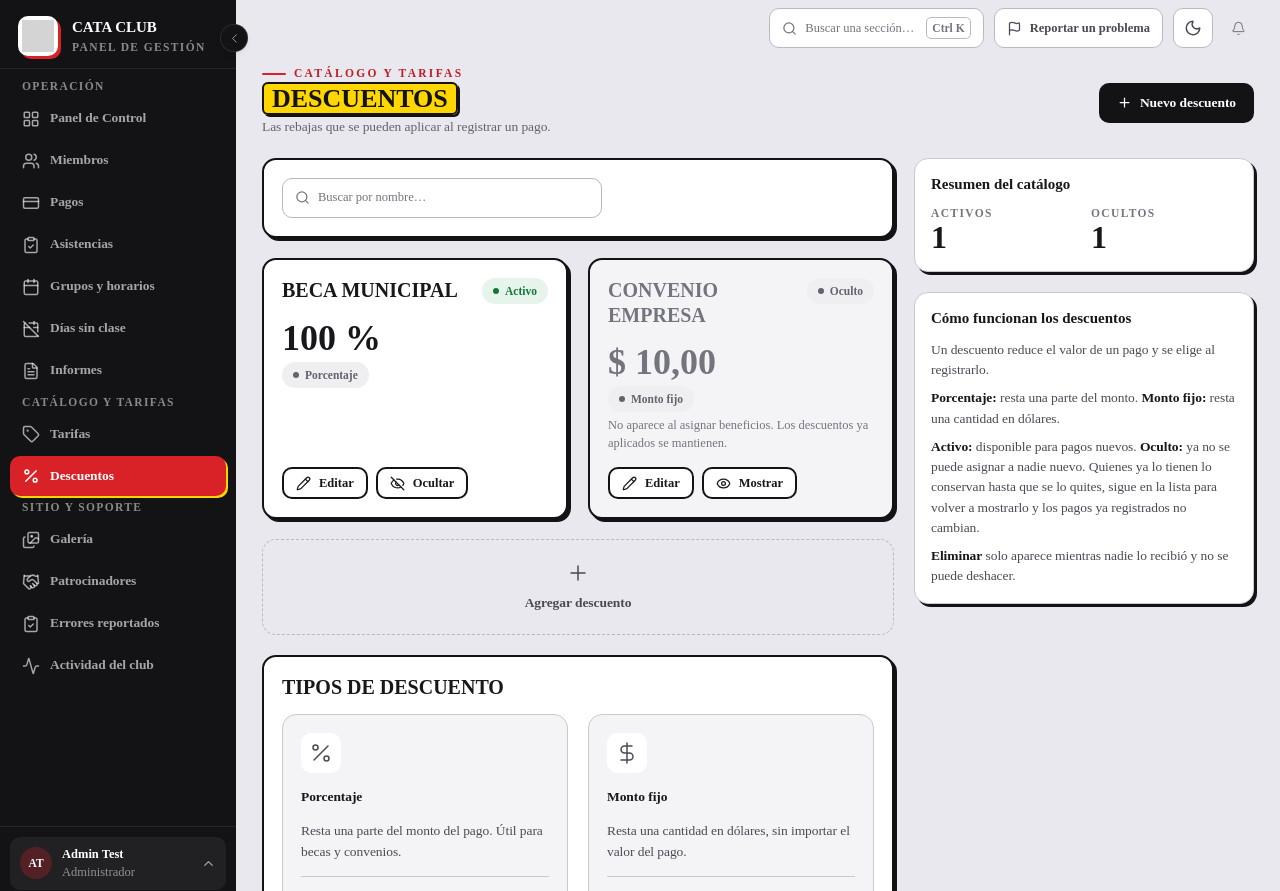
Test: DiscountsPage — búsqueda › clears the search from the no-results empty state action
Expected: the list with test id "discounts-cards" is shown, left=262, top=258, right=894, bottom=635
Type "nadie con este nombre" into the search field named "Buscar descuentos" at (454, 198), box left=318, top=188, right=589, bottom=207
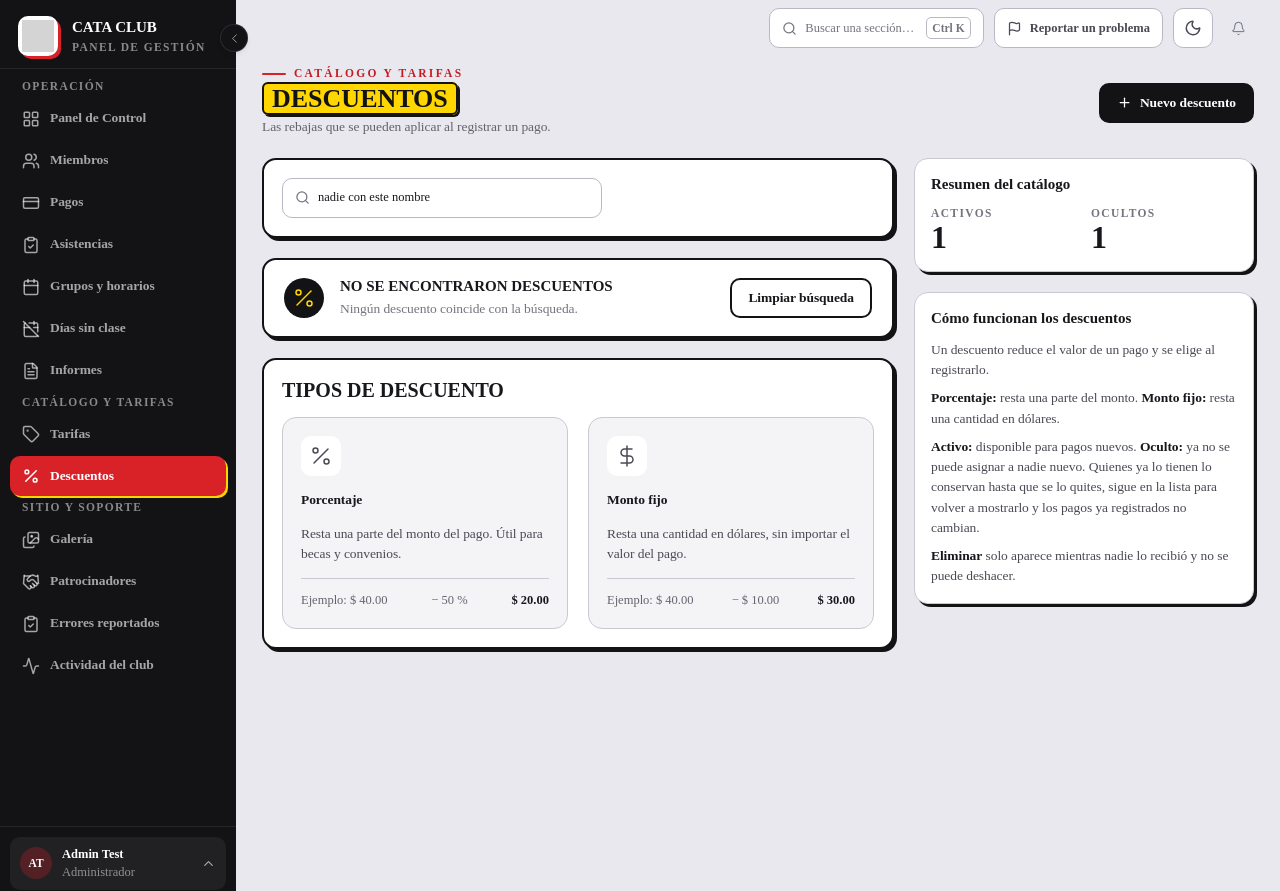
Now the text "No se encontraron descuentos" is shown, box left=340, top=278, right=613, bottom=294
Click the button "Limpiar búsqueda" at (801, 298), box left=730, top=278, right=872, bottom=318
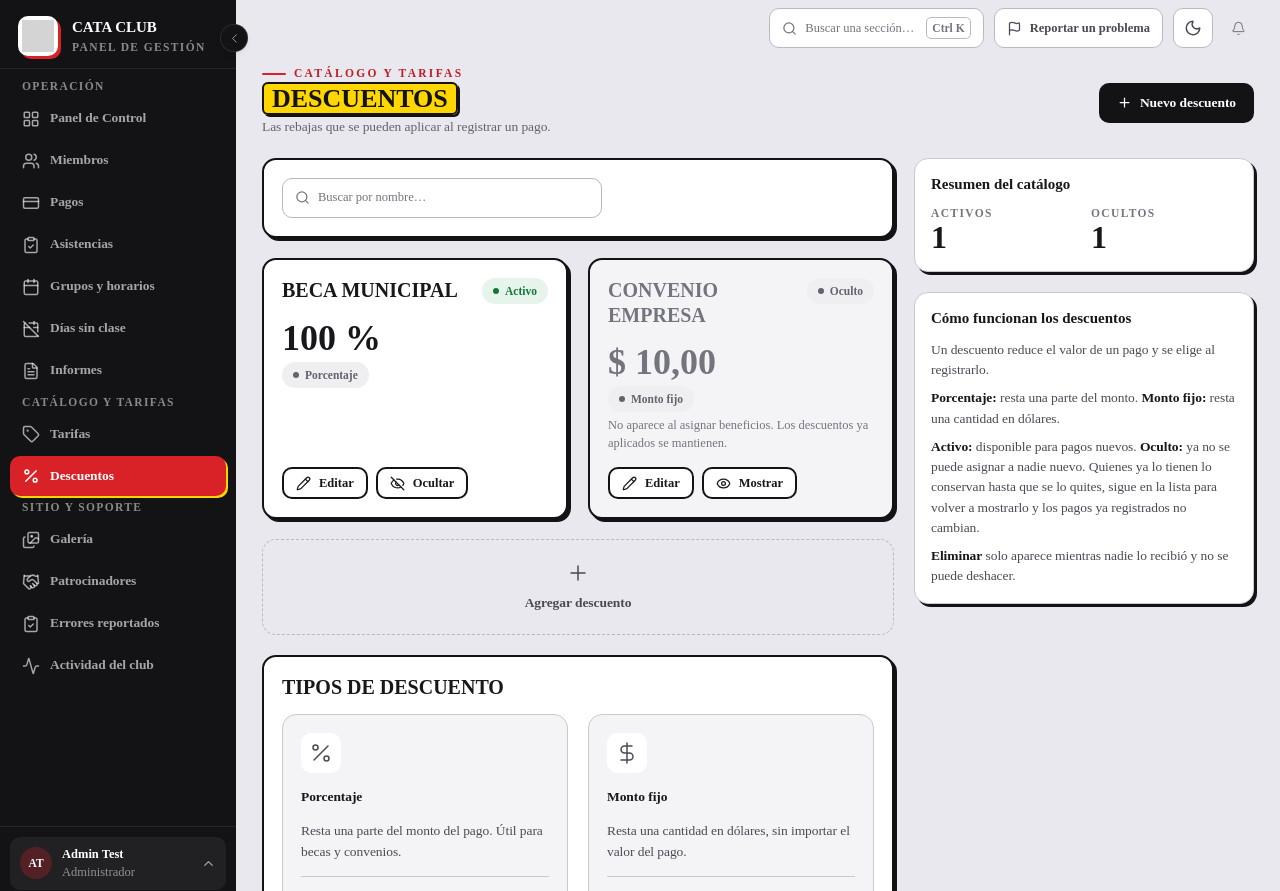
Now the list with test id "discounts-cards" is shown, box left=262, top=258, right=894, bottom=635
Now the search field named "Buscar descuentos" is empty, box left=318, top=188, right=589, bottom=207
